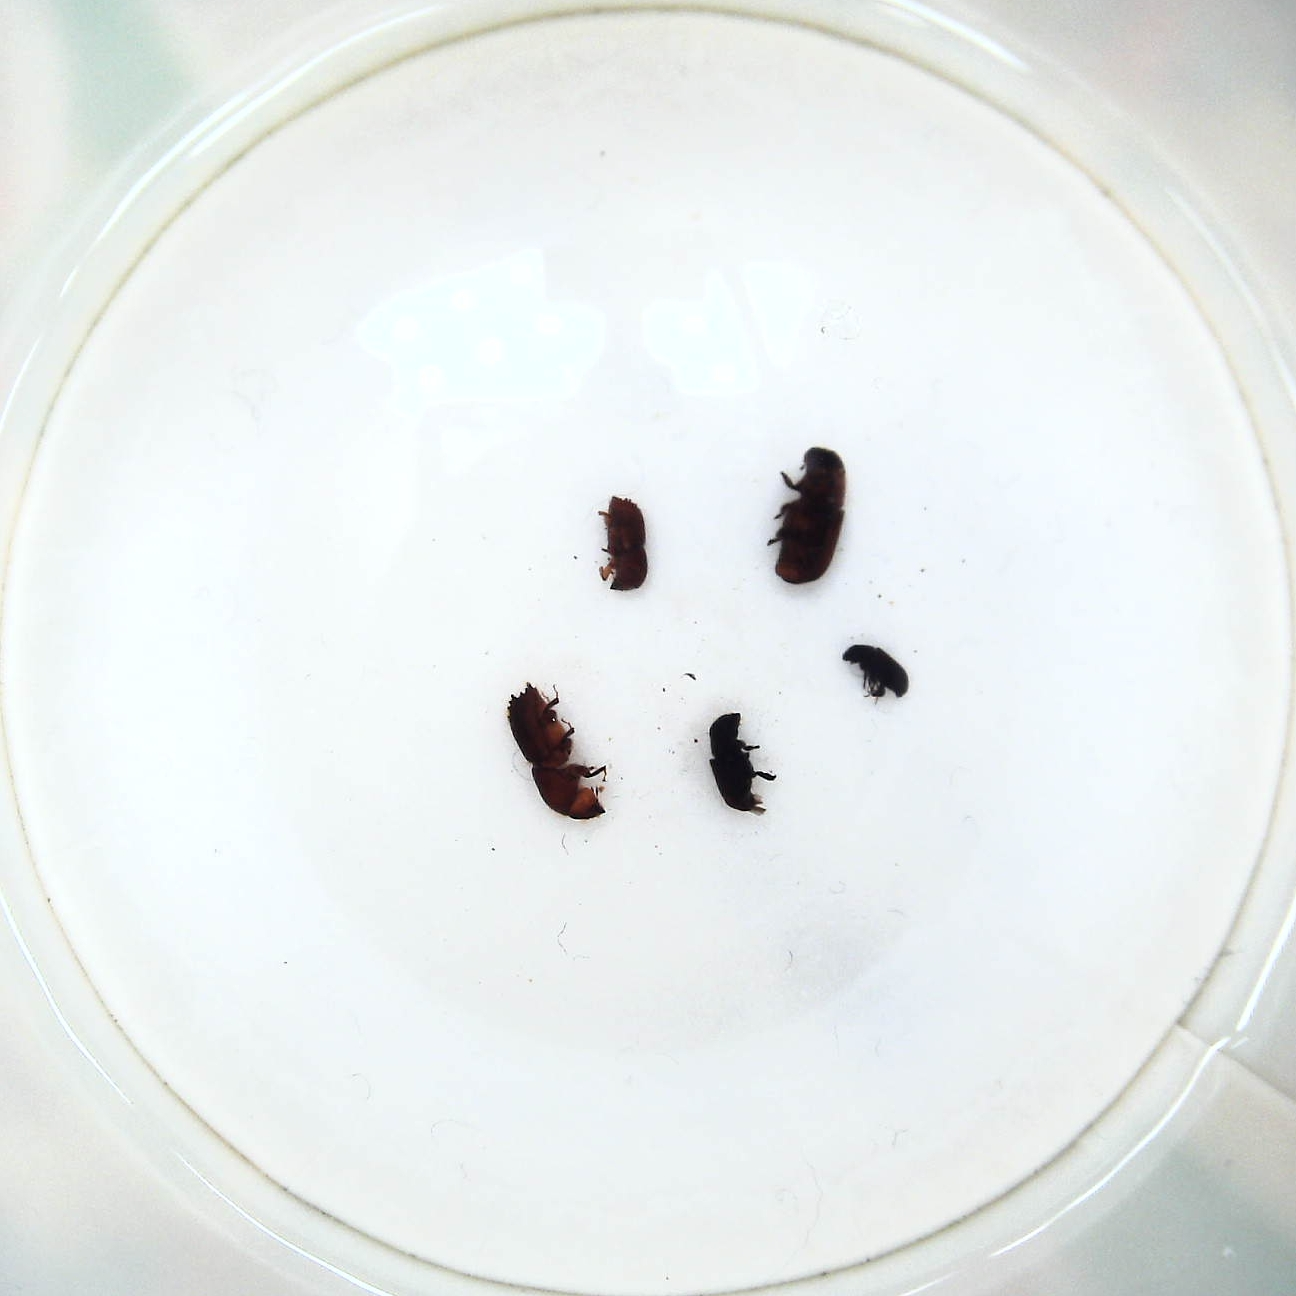Boerner: (503, 680, 612, 830)
Leconte: (764, 443, 855, 590)
armandi: (703, 709, 783, 817)
coleoptera: (839, 639, 915, 707)
linnaeus: (595, 490, 656, 597)
